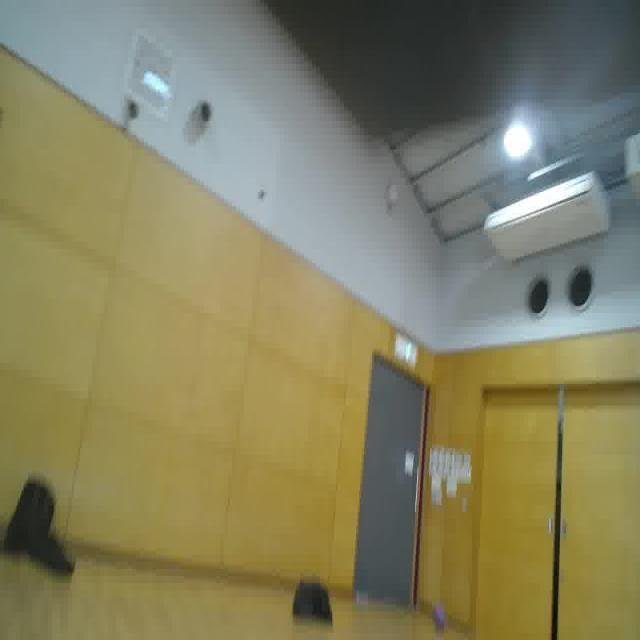purple_ball: (434, 606, 445, 628)
